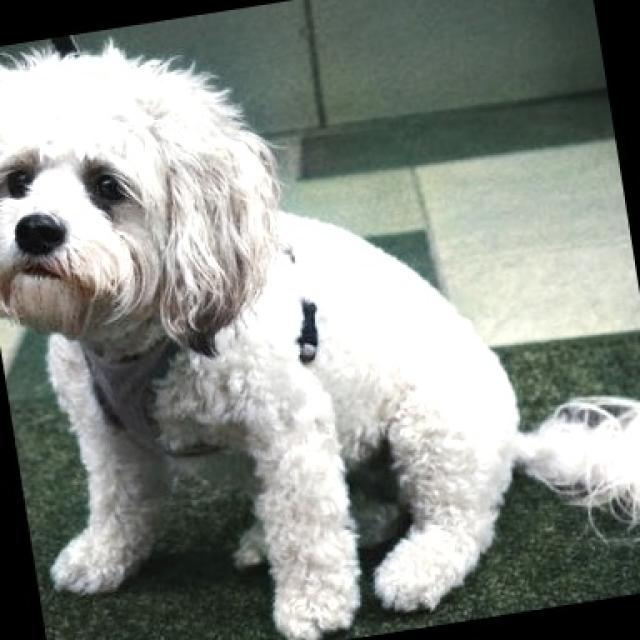sad: (6, 38, 640, 639)
